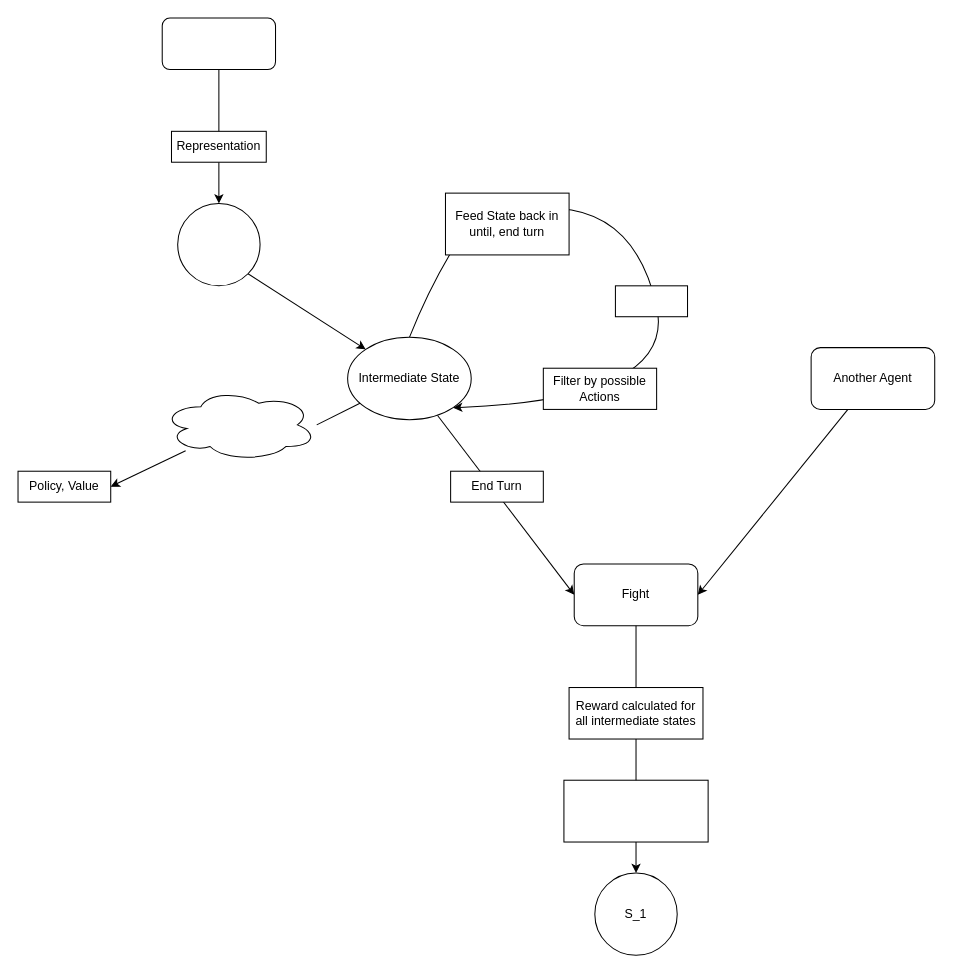
The diagram is 953 pixels wide and 973 high, and some of its shapes have lost their labels. The centre of each missing label's shape, as x and y in pixels:
Action: point 651,301
Game: point 218,43
Neural Network: point 239,424
S_0: point 218,244
Train Model based on the resulting rewards: point 635,810
